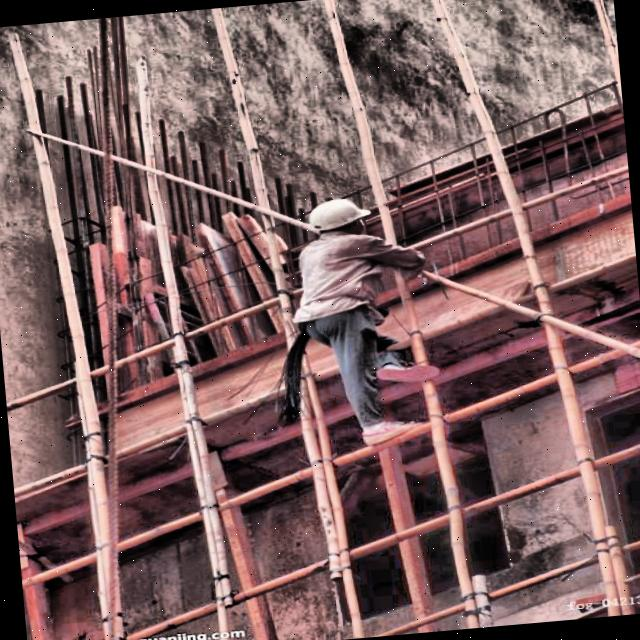helmet: (306, 194, 374, 248)
